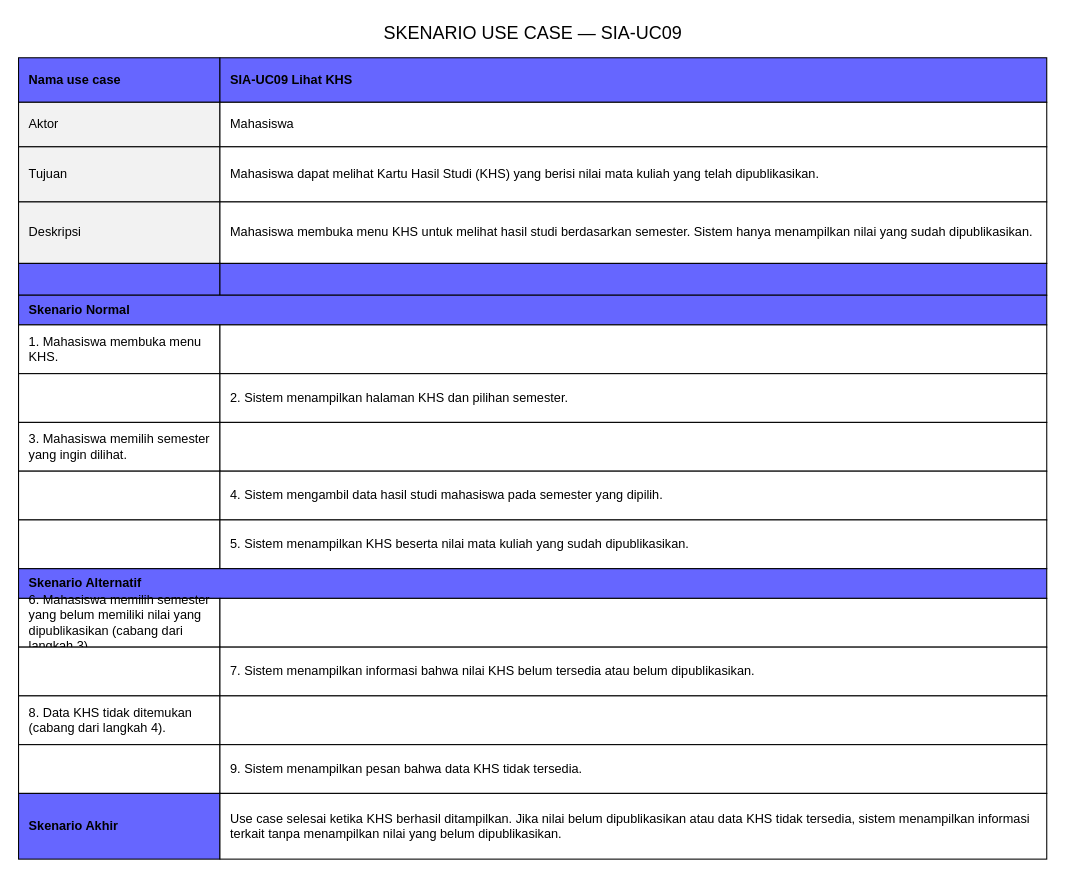
This 1065x878 diagram has some shape labels left out. Each missing label, with the centre of its shape:
Kegiatan: [118,278]
Respons sistem: [633,278]
